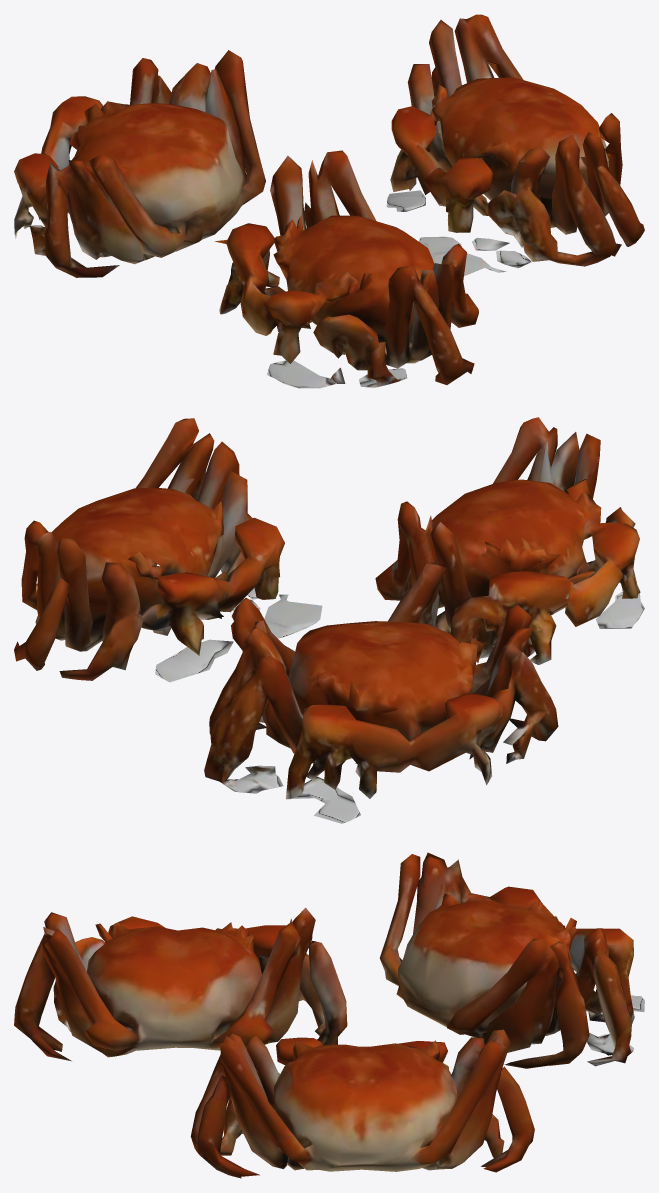
File: xiepan.glb
3 views of the same model, one above another, from view 1: azimuth 30°, elevation 25°; view 2: azimuth 150°, elevation 25°; view 3: azimuth 270°, elevation 25° (orthographic). The views are drawn at different scales.
Parts seen in each view (by area): view 1: tripo_node_a501fd9c-a48c-4742-8e1f-66b5c36ad37e; view 2: tripo_node_a501fd9c-a48c-4742-8e1f-66b5c36ad37e; view 3: tripo_node_a501fd9c-a48c-4742-8e1f-66b5c36ad37e.
Part boxes in pixels (box(x1,y1,x2,y2)): tripo_node_a501fd9c-a48c-4742-8e1f-66b5c36ad37e: box(14, 14, 644, 388); tripo_node_a501fd9c-a48c-4742-8e1f-66b5c36ad37e: box(14, 417, 644, 823); tripo_node_a501fd9c-a48c-4742-8e1f-66b5c36ad37e: box(14, 852, 644, 1178).
Bounding box in the file's own units: 3.77 × 0.9997 × 4.21.
Materials: 1 (1 with a texture image).
